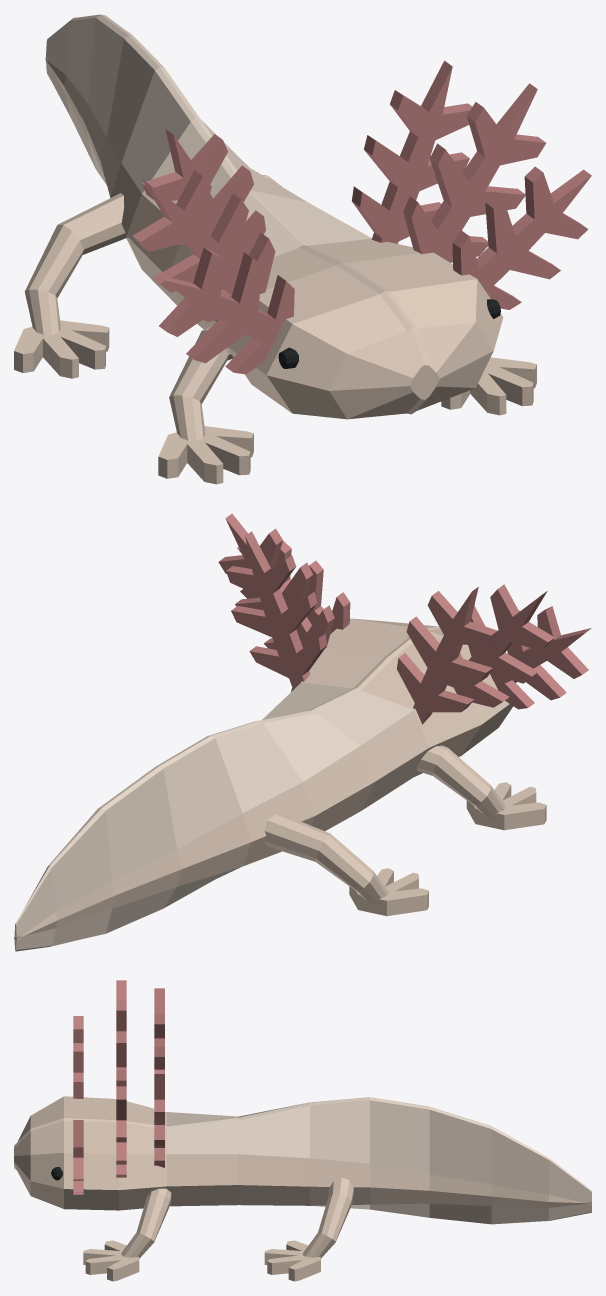
The picture shows the model from 3 angles, top to bottom: view 1: azimuth 30°, elevation 25°; view 2: azimuth 150°, elevation 25°; view 3: azimuth 270°, elevation 25°; orthographic projection. The views are drawn at different scales.
Visible parts, largest first — view 1: WholeBroadBluntHeadElongatedBodyAndIntegralFinTail, WholeBranchedExternalGillFan1_1, WholeBranchedExternalGillFan0_0, WholeBranchedExternalGillFan1_2, WholeBranchedExternalGillFan1_0, WholeBranchedExternalGillFan0_1, WholeShortBentRearLimb0, WholeBranchedExternalGillFan0_2, WholeSplayedCleftFrontFoot0, WholeSplayedCleftRearFoot0, WholeSplayedCleftFrontFoot1, WholeShortBentFrontLimb0; view 2: WholeBroadBluntHeadElongatedBodyAndIntegralFinTail, WholeBranchedExternalGillFan0_2, WholeBranchedExternalGillFan1_2, WholeBranchedExternalGillFan0_1, WholeShortBentRearLimb0, WholeBranchedExternalGillFan0_0, WholeBranchedExternalGillFan1_1, WholeShortBentFrontLimb0, WholeSplayedCleftFrontFoot0, WholeSplayedCleftRearFoot0, WholeBranchedExternalGillFan1_0; view 3: WholeBroadBluntHeadElongatedBodyAndIntegralFinTail, WholeShortBentRearLimb1, WholeShortBentFrontLimb1, WholeSplayedCleftFrontFoot1, WholeSplayedCleftRearFoot1, WholeBranchedExternalGillFan0_1, WholeBranchedExternalGillFan1_2, WholeBranchedExternalGillFan1_1, WholeBranchedExternalGillFan0_0, WholeBranchedExternalGillFan0_2, WholeBranchedExternalGillFan1_0.
Part boxes in pixels (left/top/right/bottom): WholeBroadBluntHeadElongatedBodyAndIntegralFinTail: left=45, top=14, right=503, bottom=419; WholeBranchedExternalGillFan1_1: left=403, top=83, right=546, bottom=262; WholeBranchedExternalGillFan0_0: left=156, top=247, right=294, bottom=374; WholeBranchedExternalGillFan1_2: left=352, top=60, right=472, bottom=243; WholeBranchedExternalGillFan1_0: left=452, top=166, right=591, bottom=309; WholeBranchedExternalGillFan0_1: left=132, top=170, right=275, bottom=322; WholeShortBentRearLimb0: left=24, top=193, right=127, bottom=335; WholeBranchedExternalGillFan0_2: left=141, top=129, right=265, bottom=265; WholeSplayedCleftFrontFoot0: left=158, top=426, right=253, bottom=484; WholeSplayedCleftRearFoot0: left=14, top=320, right=109, bottom=378; WholeSplayedCleftFrontFoot1: left=441, top=357, right=536, bottom=415; WholeShortBentFrontLimb0: left=169, top=325, right=233, bottom=440; WholeBroadBluntHeadElongatedBodyAndIntegralFinTail: left=14, top=618, right=513, bottom=951; WholeBranchedExternalGillFan0_2: left=397, top=587, right=497, bottom=724; WholeBranchedExternalGillFan1_2: left=226, top=531, right=326, bottom=689; WholeBranchedExternalGillFan0_1: left=447, top=584, right=554, bottom=707; WholeShortBentRearLimb0: left=264, top=814, right=388, bottom=903; WholeBranchedExternalGillFan0_0: left=490, top=606, right=591, bottom=709; WholeBranchedExternalGillFan1_1: left=218, top=513, right=334, bottom=649; WholeShortBentFrontLimb0: left=417, top=745, right=505, bottom=817; WholeSplayedCleftFrontFoot0: left=466, top=782, right=546, bottom=830; WholeSplayedCleftRearFoot0: left=349, top=868, right=428, bottom=916; WholeBranchedExternalGillFan1_0: left=237, top=540, right=350, bottom=633; WholeBroadBluntHeadElongatedBodyAndIntegralFinTail: left=14, top=1096, right=591, bottom=1224; WholeShortBentRearLimb1: left=303, top=1177, right=353, bottom=1258; WholeShortBentFrontLimb1: left=121, top=1188, right=171, bottom=1258; WholeSplayedCleftFrontFoot1: left=83, top=1240, right=139, bottom=1281; WholeSplayedCleftRearFoot1: left=264, top=1240, right=320, bottom=1281; WholeBranchedExternalGillFan0_1: left=116, top=980, right=126, bottom=1086; WholeBranchedExternalGillFan1_2: left=154, top=1069, right=164, bottom=1167; WholeBranchedExternalGillFan1_1: left=116, top=1086, right=126, bottom=1177; WholeBranchedExternalGillFan0_0: left=73, top=1016, right=83, bottom=1098; WholeBranchedExternalGillFan0_2: left=154, top=988, right=164, bottom=1069; WholeBranchedExternalGillFan1_0: left=73, top=1120, right=83, bottom=1194.
Bounding box in the file's own units: 1.3 × 0.8857 × 2.42.
